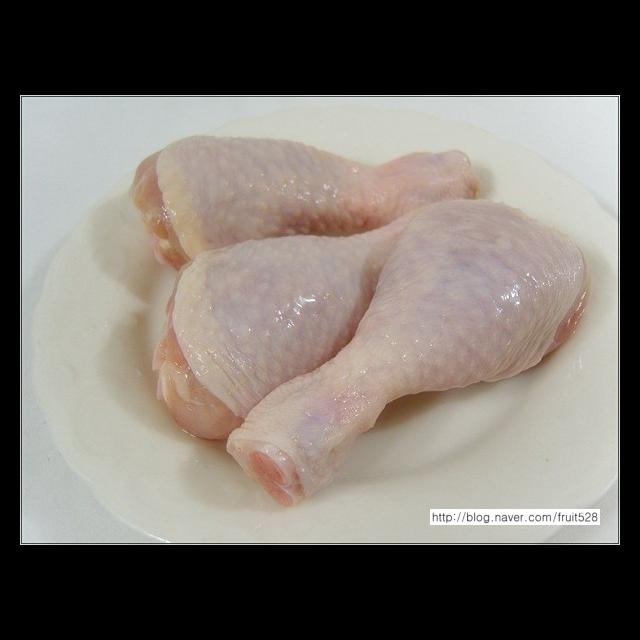chicken: (151, 198, 588, 507), (127, 133, 481, 271)
